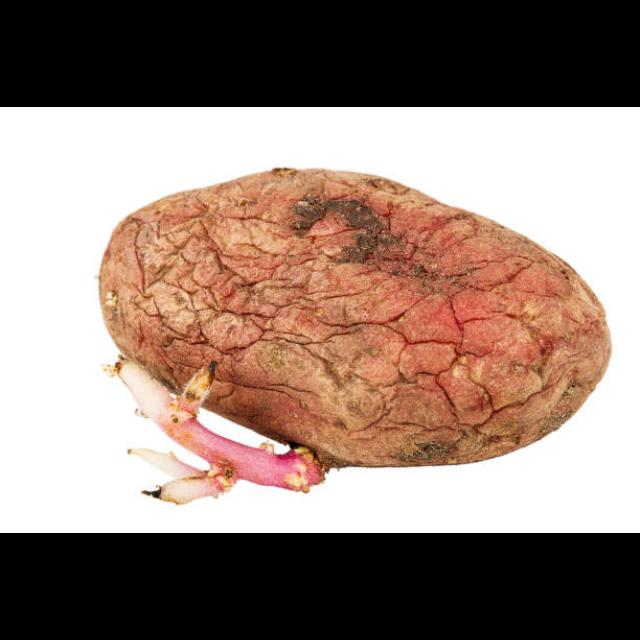Sprouted potato: (46, 144, 606, 506)
